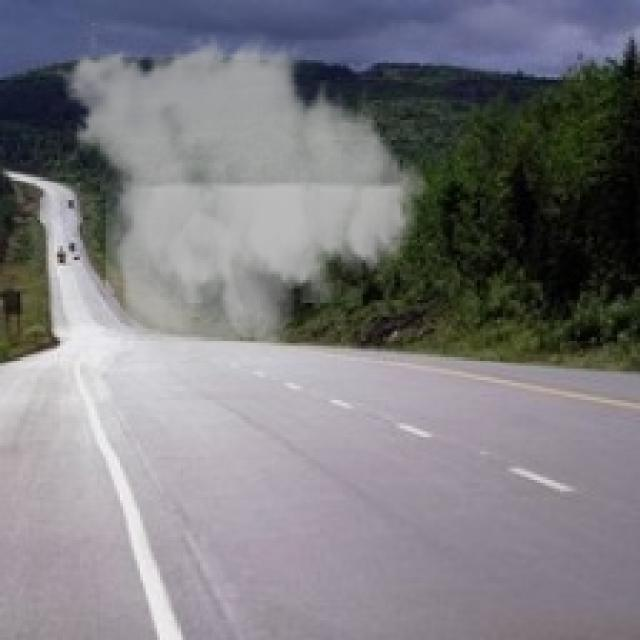smoke: (46, 28, 440, 386)
